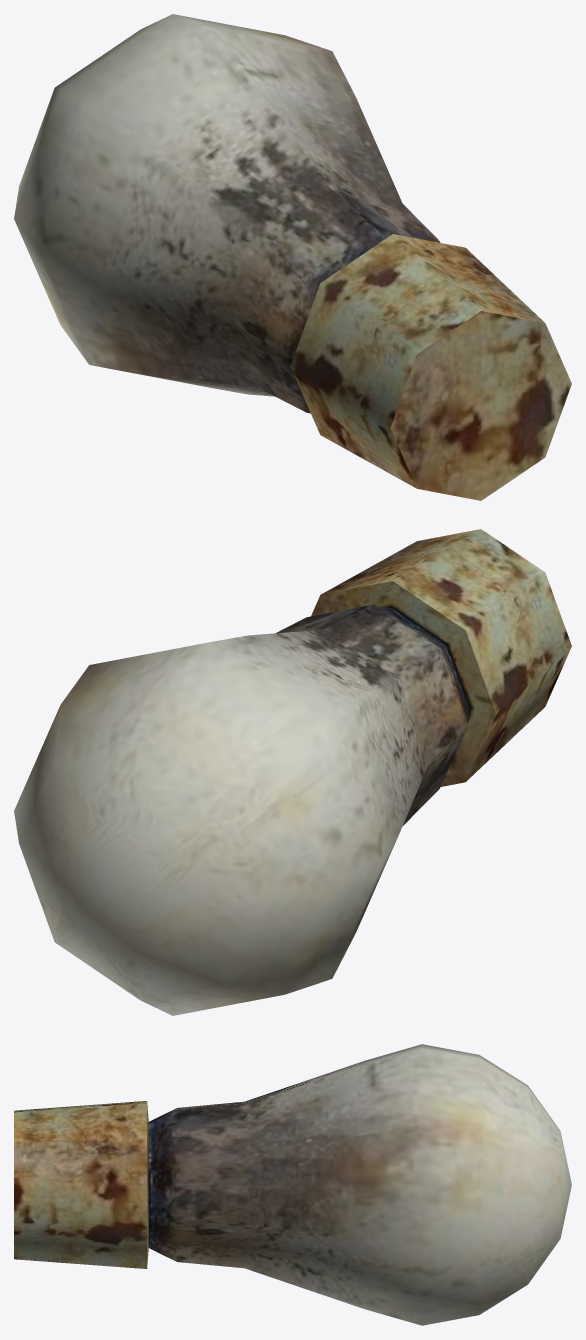
Rendered from prop_lightbulb_off.glb.
The picture shows the model from 3 angles, top to bottom: view 1: azimuth 30°, elevation 25°; view 2: azimuth 150°, elevation 25°; view 3: azimuth 270°, elevation 25°; orthographic projection. The views are drawn at different scales.
Size of the model in its own units: 3.04 by 3.04 by 5.66.
Materials: 1 (1 with a texture image).
